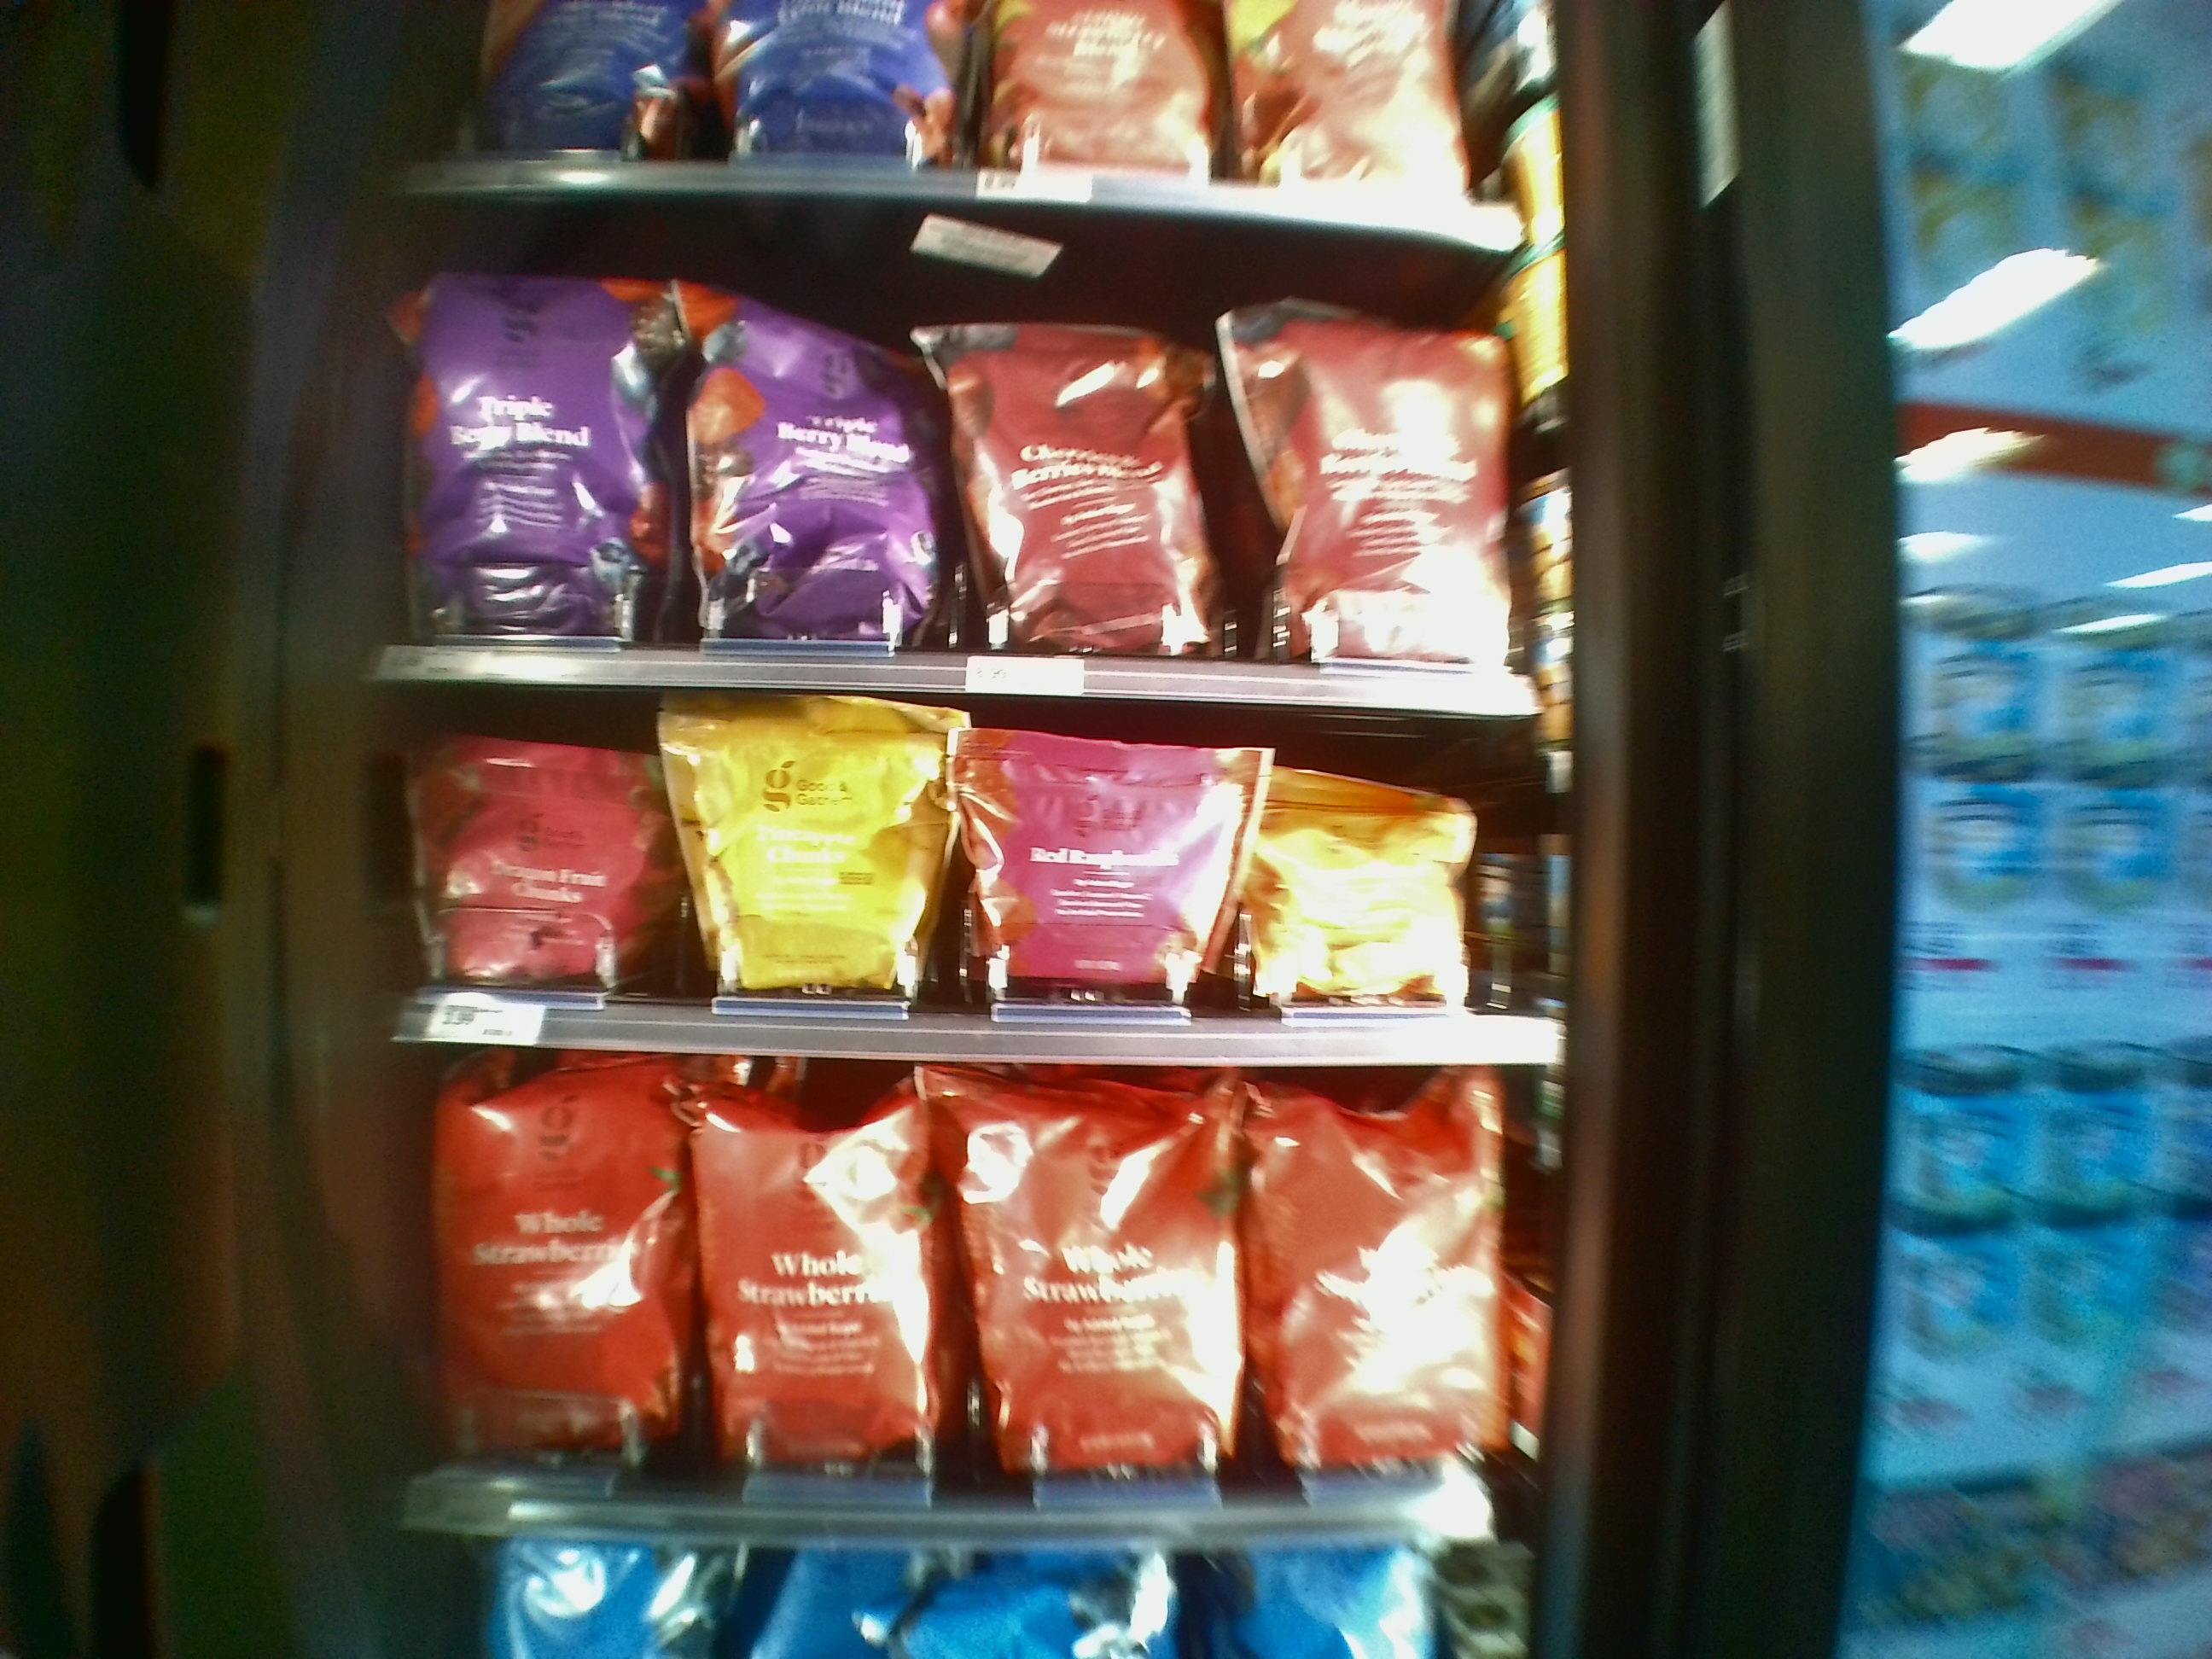shelf: (388, 197, 1557, 699), (416, 1056, 1540, 1540), (394, 694, 1568, 1061)
